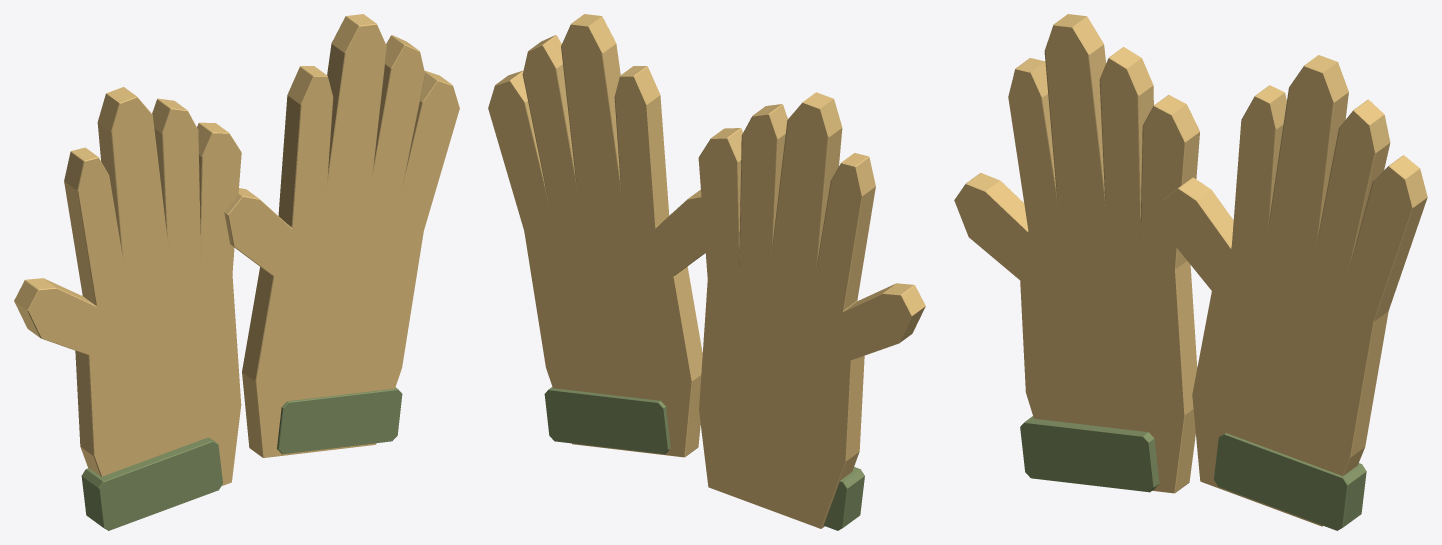
The model's file is garden_gloves.glb.
3 renders of one model, left to right at view 1: azimuth 30°, elevation 25°; view 2: azimuth 150°, elevation 25°; view 3: azimuth 330°, elevation 25°, orthographic. The views are drawn at different scales.
Parts seen in each view (by area): view 1: garden_gloves; view 2: garden_gloves; view 3: garden_gloves.
Part boxes in pixels (<box>): garden_gloves: <box>14,14,459,530</box>; garden_gloves: <box>488,14,925,530</box>; garden_gloves: <box>954,14,1427,530</box>.
Bounding box in the file's own units: 0.263 × 0.26 × 0.0205.
